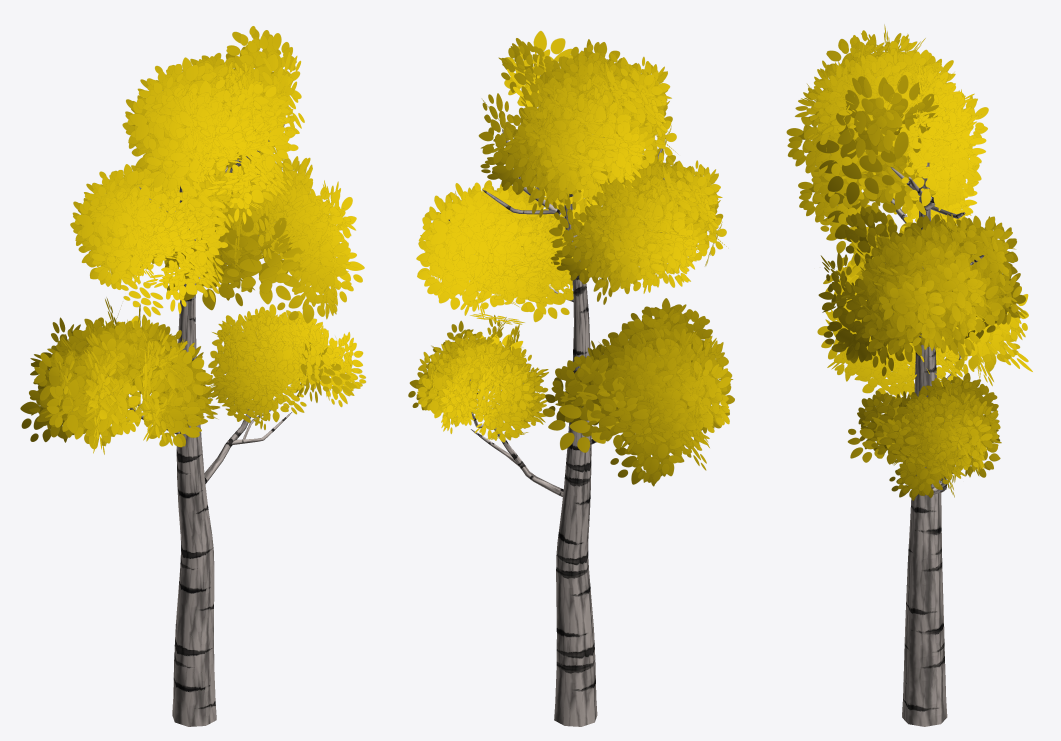
Rendered from BirchTree_1.gltf.
3 views of the same model, side by side, from view 1: azimuth 30°, elevation 25°; view 2: azimuth 150°, elevation 25°; view 3: azimuth 270°, elevation 25° (orthographic). The views are drawn at different scales.
Parts seen in each view (by area): view 1: BirchTree_1; view 2: BirchTree_1; view 3: BirchTree_1.
Part boxes in pixels (<box>): BirchTree_1: <box>20,26,365,726</box>; BirchTree_1: <box>408,31,734,726</box>; BirchTree_1: <box>786,24,1032,726</box>.
Bounding box in the file's own units: 2.71 × 5.45 × 1.94.
2 materials, 2 textured.
